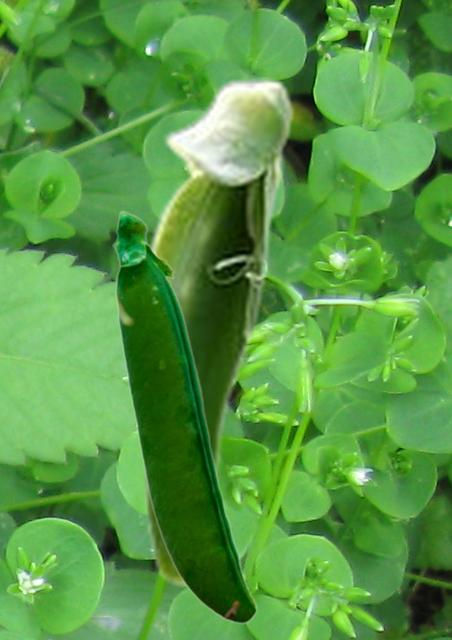pea: (141, 77, 295, 587), (112, 209, 256, 623)
